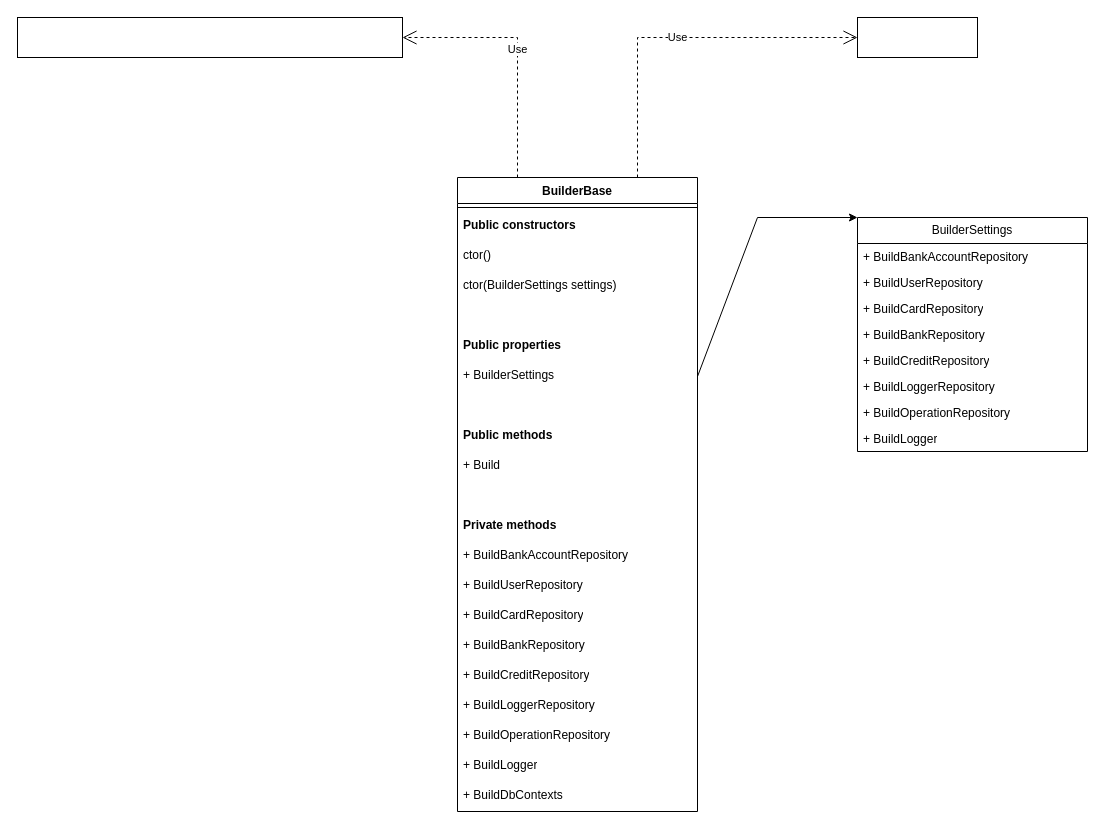
The diagram is 1105 pixels wide and 832 high, and some of its shapes have lost their labels. The centre of each missing label's shape, as x and y in pixels:
DbContextInitializer: point (917, 37)
IServiceConfiguration<TUser, TCard, TBankAccount, TBank, TCredit>: point (209, 37)
